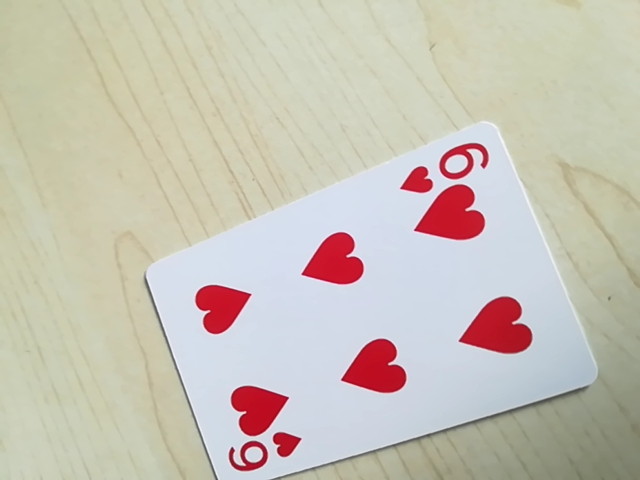hx 6: (398, 136, 495, 194), (218, 431, 304, 478)
